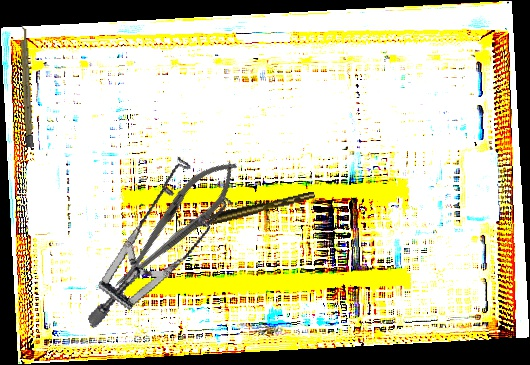Needle Holder: (101, 147, 249, 302)
Scalpel Handle: (19, 24, 34, 148)
Speculum: (48, 144, 256, 330)
Tissue Forceps: (188, 191, 317, 229)
